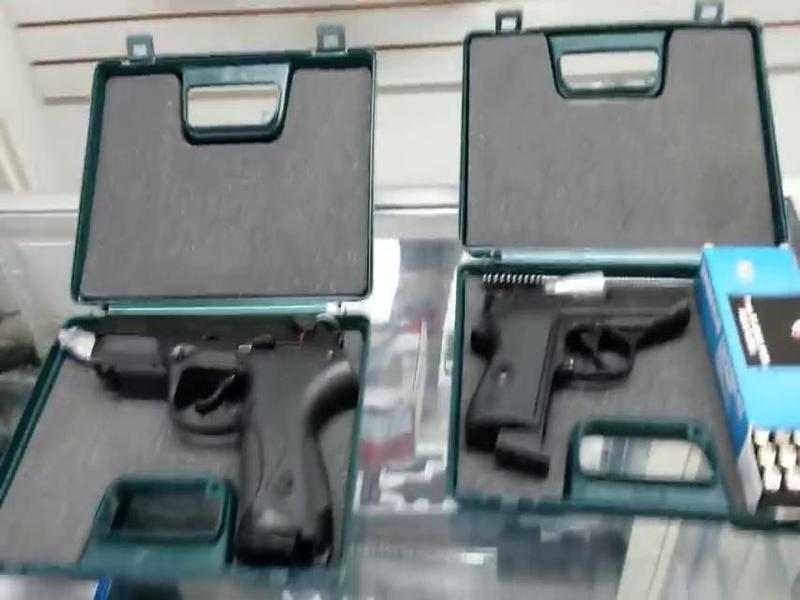Pistola: (83, 311, 367, 565), (470, 274, 713, 461)
